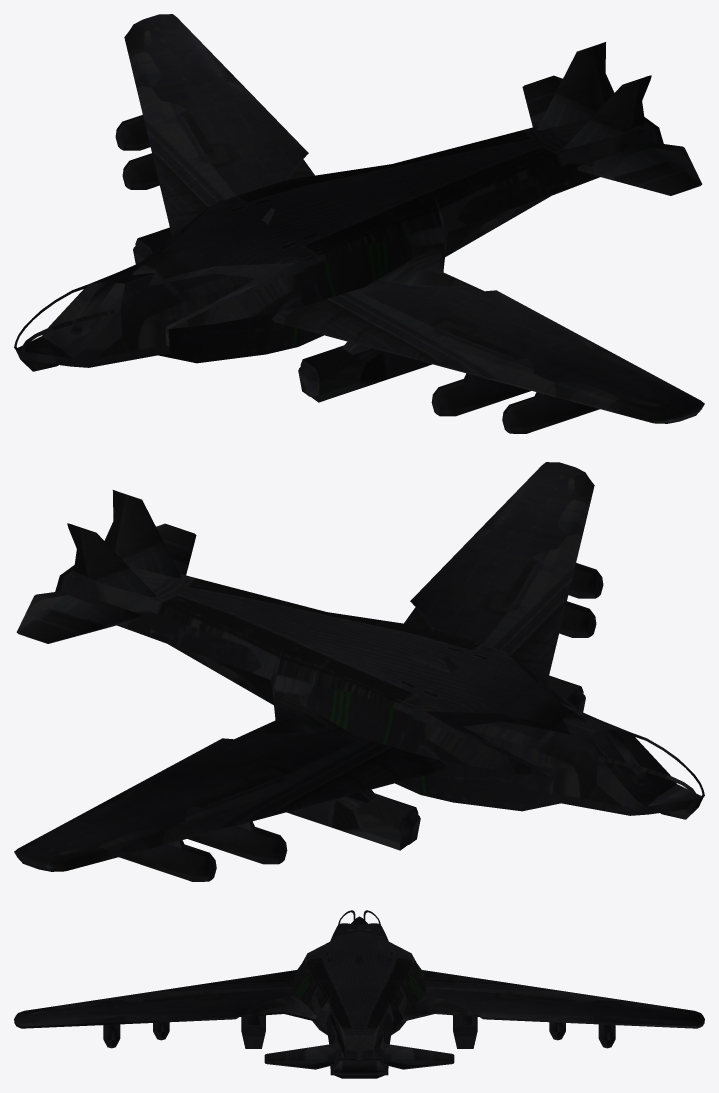
3 renders of one model, top to bottom at view 1: azimuth 30°, elevation 25°; view 2: azimuth 150°, elevation 25°; view 3: azimuth 270°, elevation 25°, orthographic. The views are drawn at different scales.
Visible parts, largest first — view 1: Mesh_4486.rip; view 2: Mesh_4486.rip; view 3: Mesh_4486.rip.
Part boxes in pixels (x1,y1,x2,y2): Mesh_4486.rip: [14, 14, 704, 433]; Mesh_4486.rip: [14, 462, 704, 881]; Mesh_4486.rip: [14, 910, 704, 1078].
Size of the model in its own units: 7.24 by 1.98 by 10.65.
Materials: 1 (1 with a texture image).
